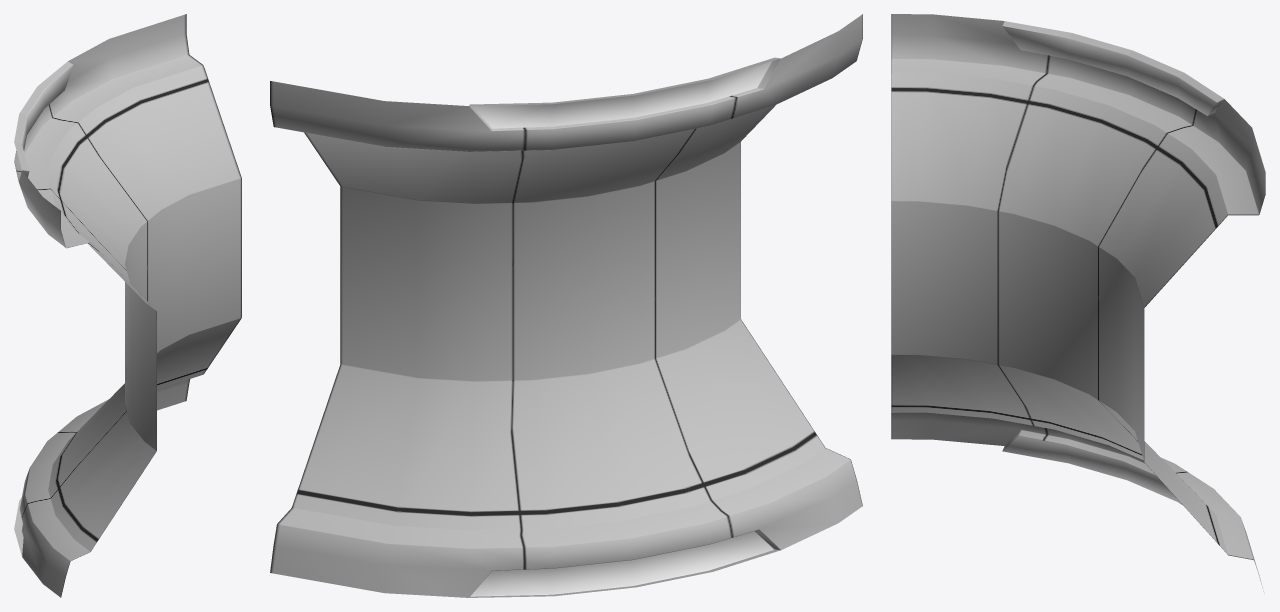
File: Corridor_Wall_Corner.fbx
3 views of the same model, side by side, from view 1: azimuth 30°, elevation 25°; view 2: azimuth 150°, elevation 25°; view 3: azimuth 270°, elevation 25° (orthographic). The views are drawn at different scales.
Visible parts, largest first — view 1: Corridor_Wall_Corner; view 2: Corridor_Wall_Corner; view 3: Corridor_Wall_Corner.
Boxes of the visible parts, x1,y1,x2,y2 form: Corridor_Wall_Corner: [14, 14, 241, 597]; Corridor_Wall_Corner: [270, 14, 862, 597]; Corridor_Wall_Corner: [891, 14, 1265, 591].
Bounding box in the file's own units: 400 × 502 × 399.
